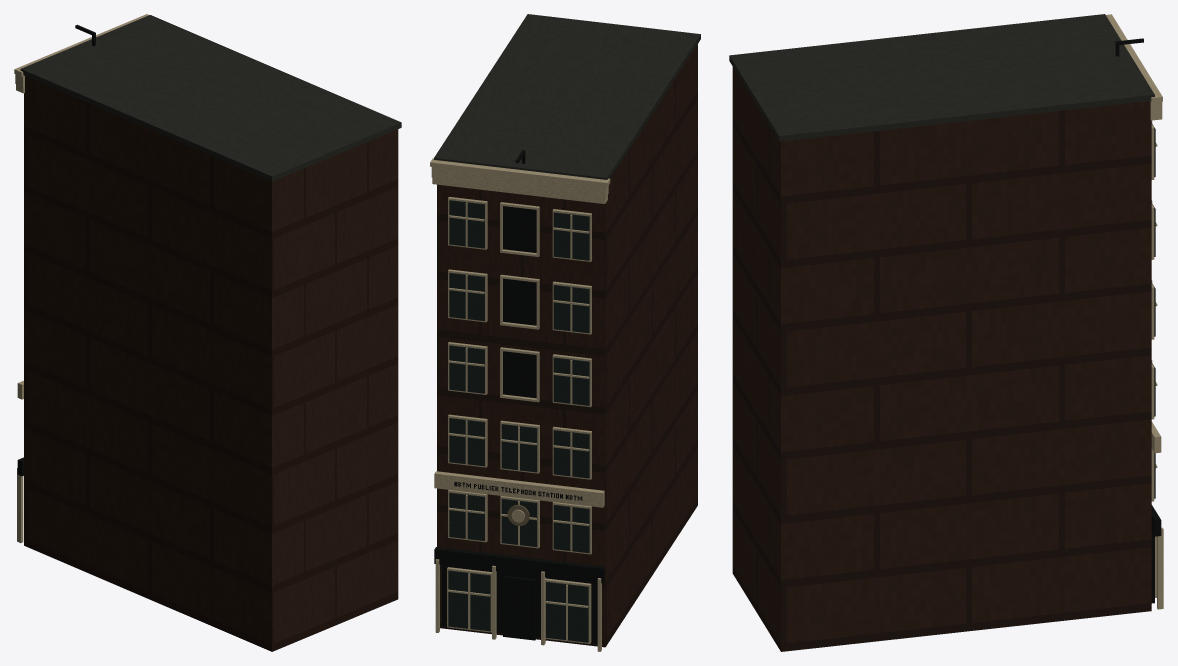
3 renders of one model, left to right at view 1: azimuth 30°, elevation 25°; view 2: azimuth 150°, elevation 25°; view 3: azimuth 270°, elevation 25°, orthographic. The views are drawn at different scales.
Visible parts, largest first — view 1: huis-keulen-0, huis-keulen-1, huis-keulen-3; view 2: huis-keulen-0, huis-keulen-1, huis-keulen-5, huis-keulen-3, huis-keulen-4; view 3: huis-keulen-0, huis-keulen-1, huis-keulen-3, huis-keulen-4.
Boxes of the visible parts, box(x1,y1,x2,y2) form: huis-keulen-0: box(24, 76, 398, 651); huis-keulen-1: box(20, 15, 401, 181); huis-keulen-3: box(14, 14, 148, 542); huis-keulen-0: box(437, 44, 697, 647); huis-keulen-1: box(434, 14, 700, 179); huis-keulen-5: box(448, 200, 589, 642); huis-keulen-3: box(430, 158, 610, 651); huis-keulen-4: box(434, 150, 604, 644); huis-keulen-0: box(732, 67, 1151, 651); huis-keulen-1: box(729, 14, 1154, 141); huis-keulen-3: box(1106, 14, 1163, 609); huis-keulen-4: box(1115, 38, 1161, 603).
Size of the model in its own units: 11.33 by 22.63 by 16.77.
6 materials, 6 textured.
